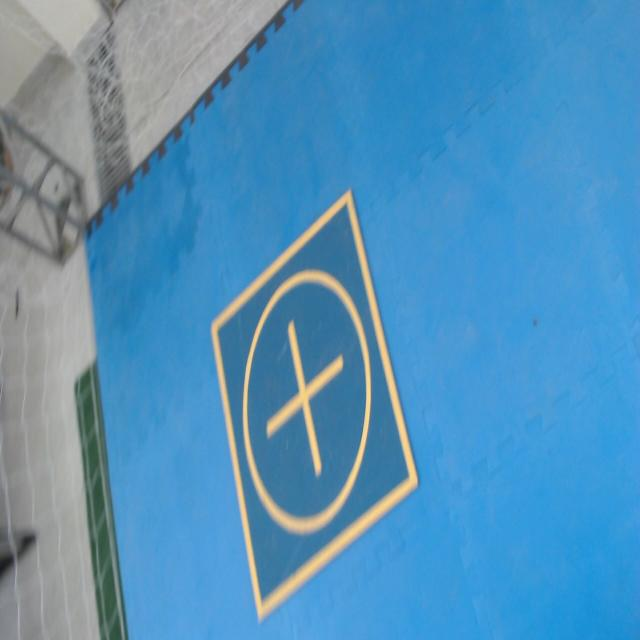base_pouso: (210, 184, 421, 622)
